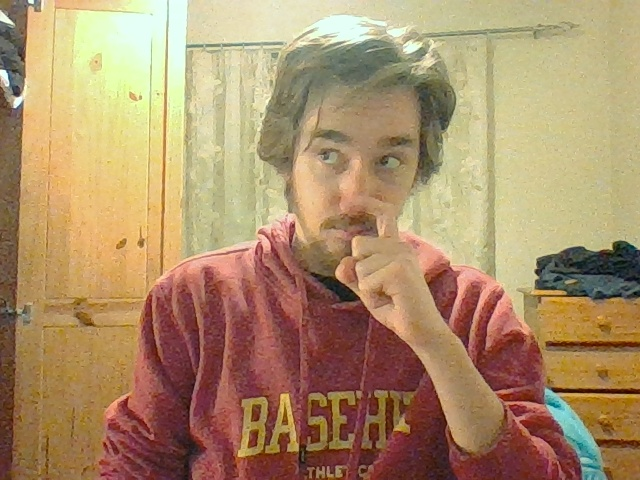sister: (334, 197, 416, 308)
